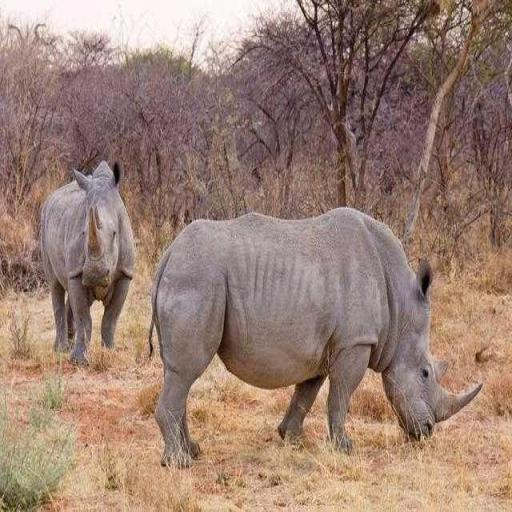Rhino: (148, 204, 484, 469), (39, 159, 136, 367)
